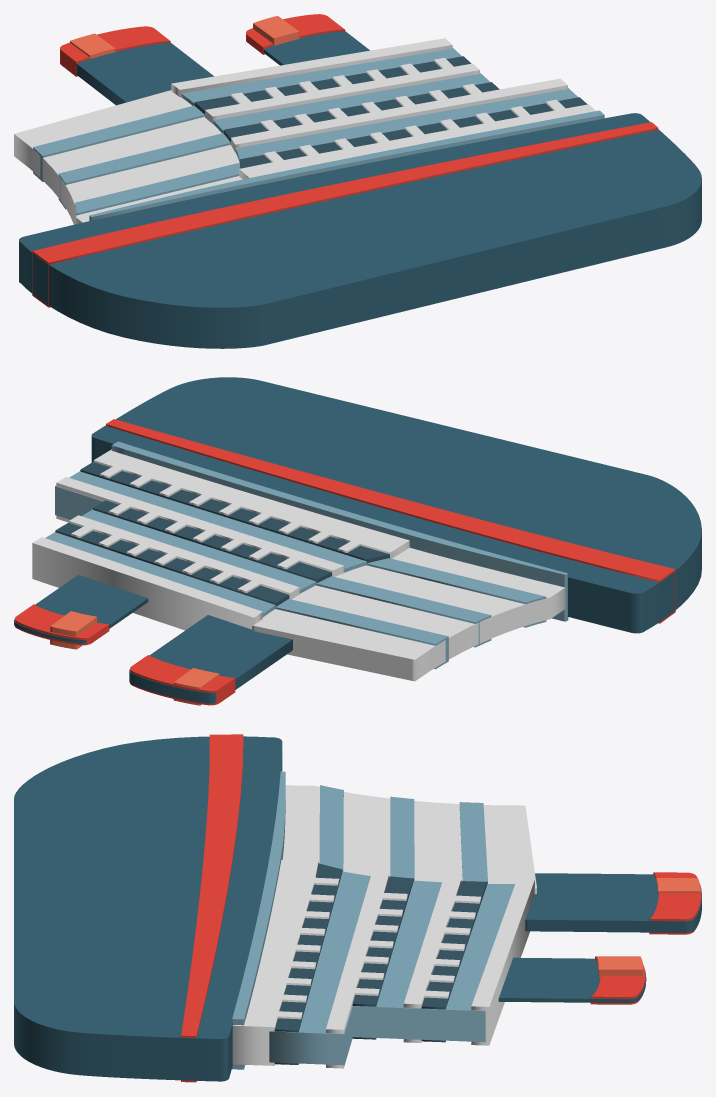
File: emoji_u1f6a2.glb
3 renders of one model, top to bottom at view 1: azimuth 30°, elevation 25°; view 2: azimuth 150°, elevation 25°; view 3: azimuth 270°, elevation 25°, orthographic. The views are drawn at different scales.
Visible parts, largest first — view 1: emoji_u1f6a2; view 2: emoji_u1f6a2; view 3: emoji_u1f6a2.
Part boxes in pixels (x1,y1,x2,y2): emoji_u1f6a2: (14,14,701,348); emoji_u1f6a2: (14,377,701,705); emoji_u1f6a2: (14,734,701,1082).
Bounding box in the file's own units: 0.0336 × 0.0026 × 0.0322.
